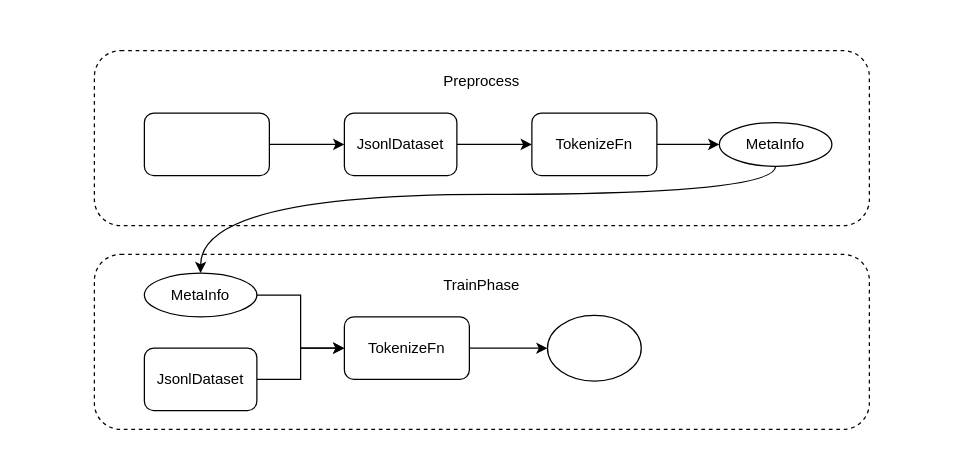
This 973x475 diagram has some shape labels left out. The centre of each missing label's shape, as x and y in pixels:
"Jsonl File" goes at (206,144).
"TrainItem" goes at (593,347).
